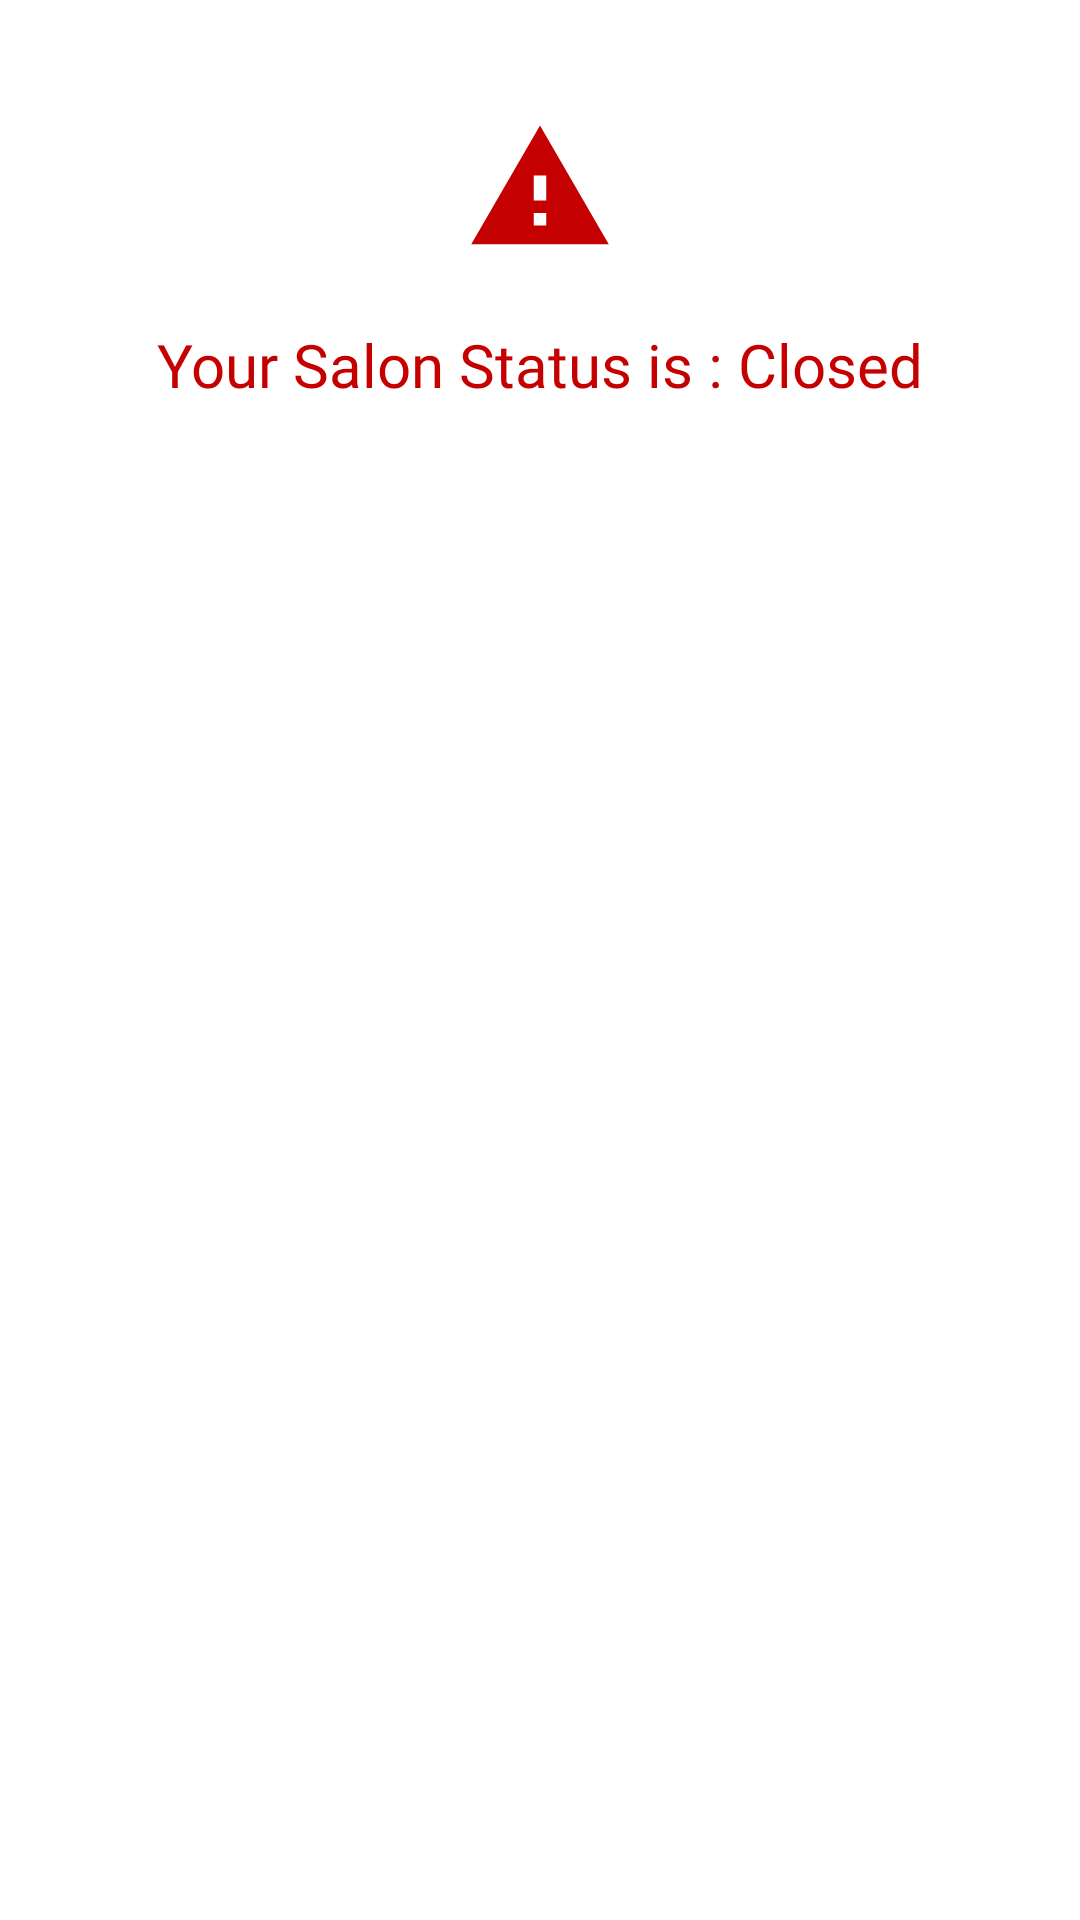

Screen size 1080 x 1920. Icon name, then its center in pixels as [x,y]:
alert: [540,185]
